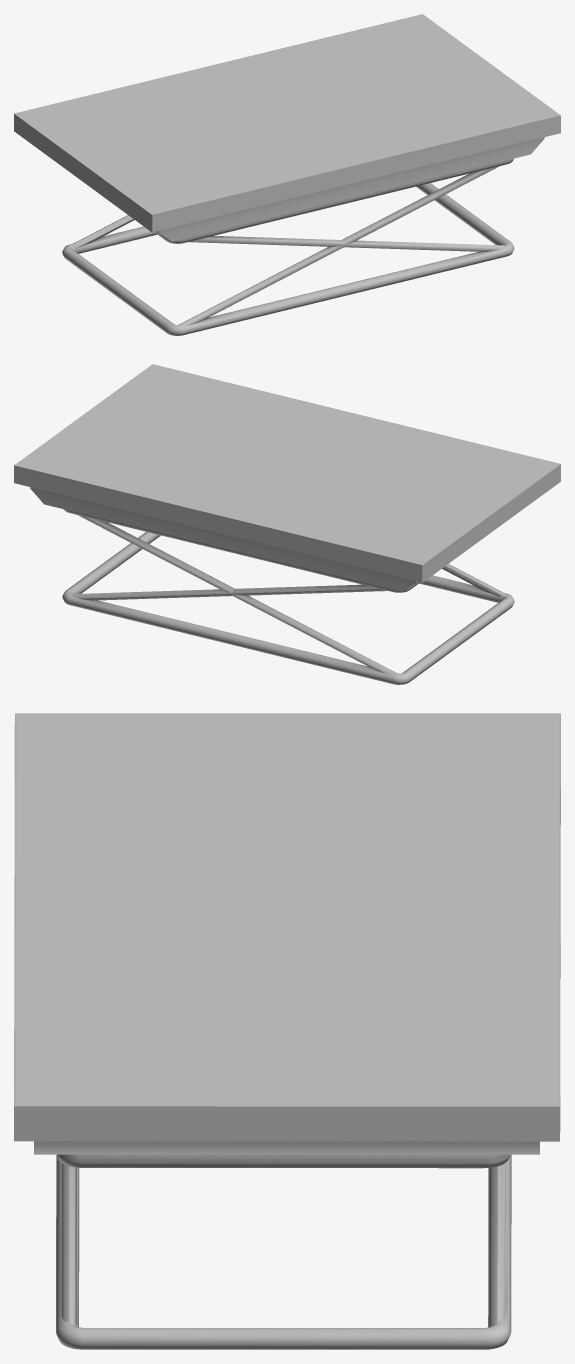
File: frl_apartment_table_03.glb
3 views of the same model, one above another, from view 1: azimuth 30°, elevation 25°; view 2: azimuth 150°, elevation 25°; view 3: azimuth 270°, elevation 25° (orthographic). The views are drawn at different scales.
Parts seen in each view (by area): view 1: frl_apartment_table_03; view 2: frl_apartment_table_03; view 3: frl_apartment_table_03.
Part boxes in pixels (left/top/right/bottom): frl_apartment_table_03: left=14, top=14, right=560, bottom=335; frl_apartment_table_03: left=14, top=364, right=560, bottom=684; frl_apartment_table_03: left=14, top=713, right=560, bottom=1349.
Size of the model in its own units: 1.21 by 0.3968 by 0.7093.
Materials: 1 (1 with a texture image).
